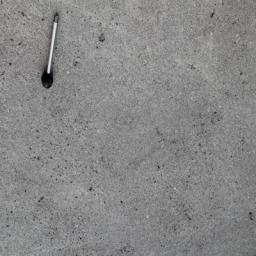FOD: (40, 14, 63, 91)
